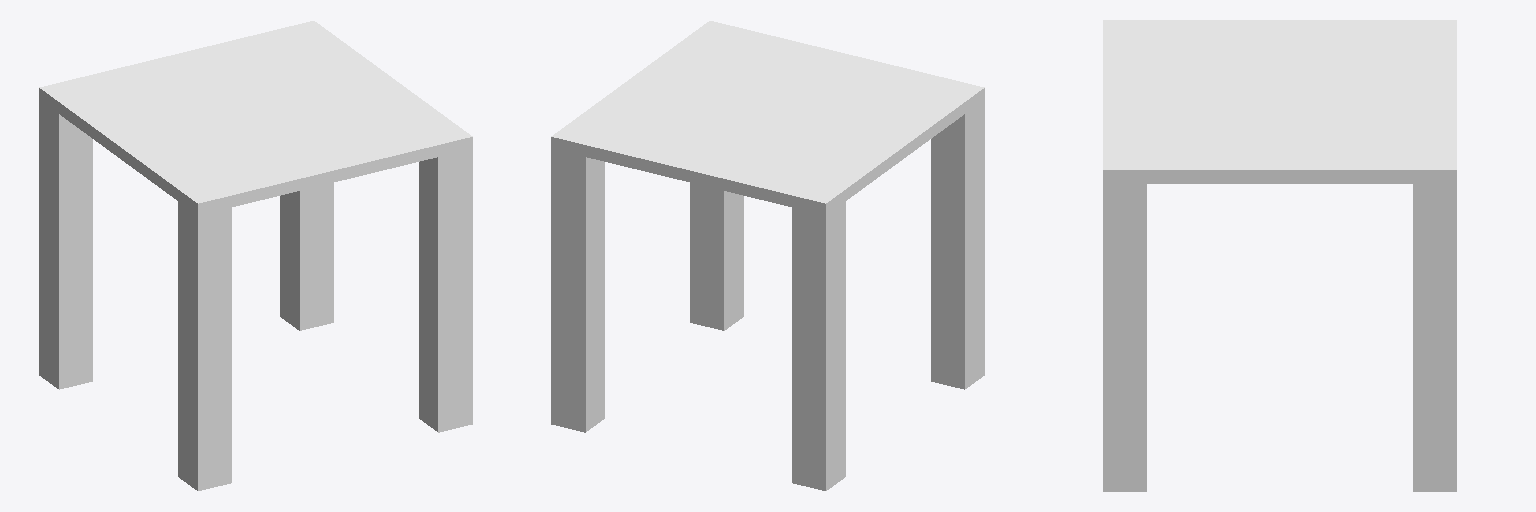
URDF robot description (model-highplate-1_2):
<?xml version="1.0" encoding="utf-8"?>
<!-- This URDF was automatically created by SolidWorks to URDF Exporter! Originally created by [author] ([email redacted]) 
     Commit Version: 1.6.0-4-g7f85cfe  Build Version: 1.6.7995.38578
     For more information, please see http://wiki.ros.org/sw_urdf_exporter -->
<robot
  name="model-highplate-1_2">
  <link
    name="base_link">
    <inertial>
      <origin
        xyz="-0.599999999999998 -0.599999999999999 0.821153846153847"
        rpy="0 0 0" />
      <mass
        value="82.4850000000001" />
      <inertia
        ixx="30.1124141826923"
        ixy="9.4271378897615E-15"
        ixz="2.10968740540731E-14"
        iyy="30.1124141826924"
        iyz="1.13071975260457E-14"
        izz="35.1195750000001" />
    </inertial>
    <visual>
      <origin
        xyz="0 0 0"
        rpy="0 0 0" />
      <geometry>
        <mesh
          filename="package://model-highplate-1_2/meshes/base_link.STL" />
      </geometry>
      <material
        name="">
        <color
          rgba="1 1 1 1" />
      </material>
    </visual>
    <collision>
      <origin
        xyz="0 0 0"
        rpy="0 0 0" />
      <geometry>
        <mesh
          filename="package://model-highplate-1_2/meshes/base_link.STL" />
      </geometry>
    </collision>
  </link>
</robot>

--- What the picture shows (computed from the rendered views, not written in the file) ---
The picture shows the robot from 3 angles, left to right: view 1: azimuth 30°, elevation 25°; view 2: azimuth 150°, elevation 25°; view 3: azimuth 270°, elevation 25°; orthographic projection.
Robot: model-highplate-1_2 — 1 links, 0 joints (none); root link base_link; default pose: all joints at 0.
Visible links, largest first — view 1: base_link; view 2: base_link; view 3: base_link.
Link boxes in pixels (x1,y1,x2,y2): base_link: (39, 21, 472, 490); base_link: (551, 21, 984, 490); base_link: (1103, 20, 1456, 491).
Size in the robot's own frame: 1.2 by 1.2 by 1.2 metres.
1 mesh visuals loaded from 1 distinct referenced files (1 binary STL).